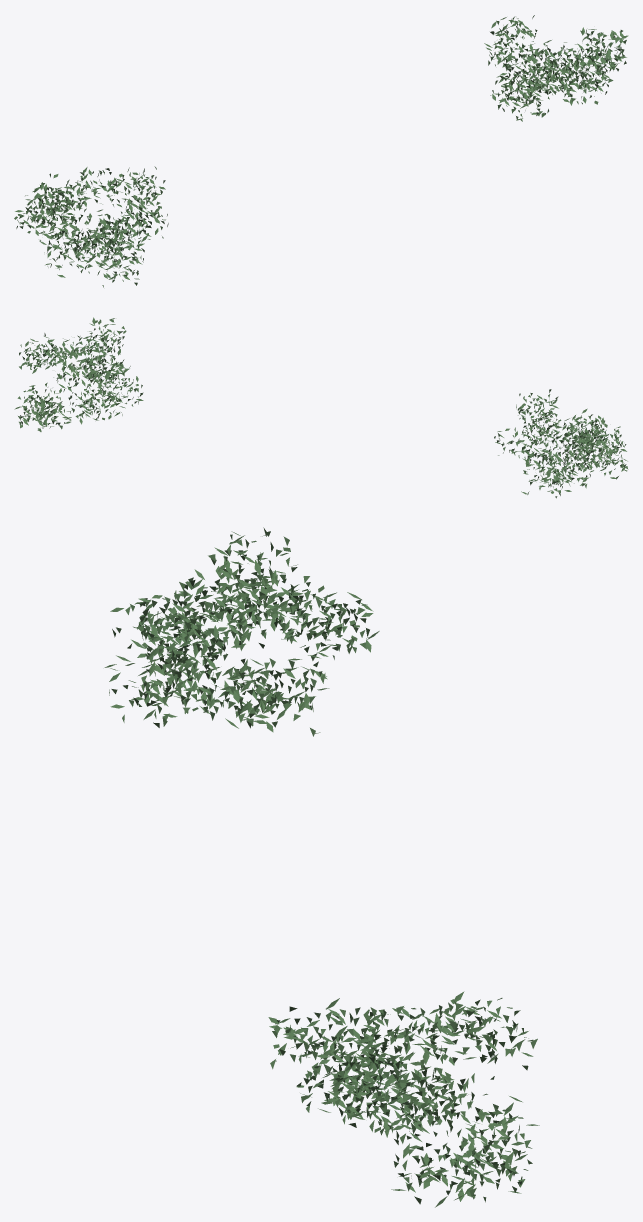
File: xiyuan-vegetation-19-medium.glb
3 renders of one model, top to bottom at view 1: azimuth 30°, elevation 25°; view 2: azimuth 150°, elevation 25°; view 3: azimuth 270°, elevation 25°, orthographic. The views are drawn at different scales.
Parts seen in each view (by area): view 1: vegetation broadleaf leaves.001; view 2: vegetation broadleaf leaves.001; view 3: vegetation broadleaf leaves.001.
Boxes of the visible parts, x1=… form: vegetation broadleaf leaves.001: x1=14, y1=15, x2=628, y2=287; vegetation broadleaf leaves.001: x1=14, y1=317, x2=628, y2=498; vegetation broadleaf leaves.001: x1=104, y1=527, x2=539, y2=1207.
Size of the model in its own units: 36.23 by 5.4 by 12.38.
